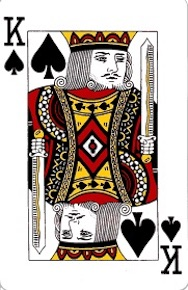KingOfSpades: (1, 4, 188, 287)
